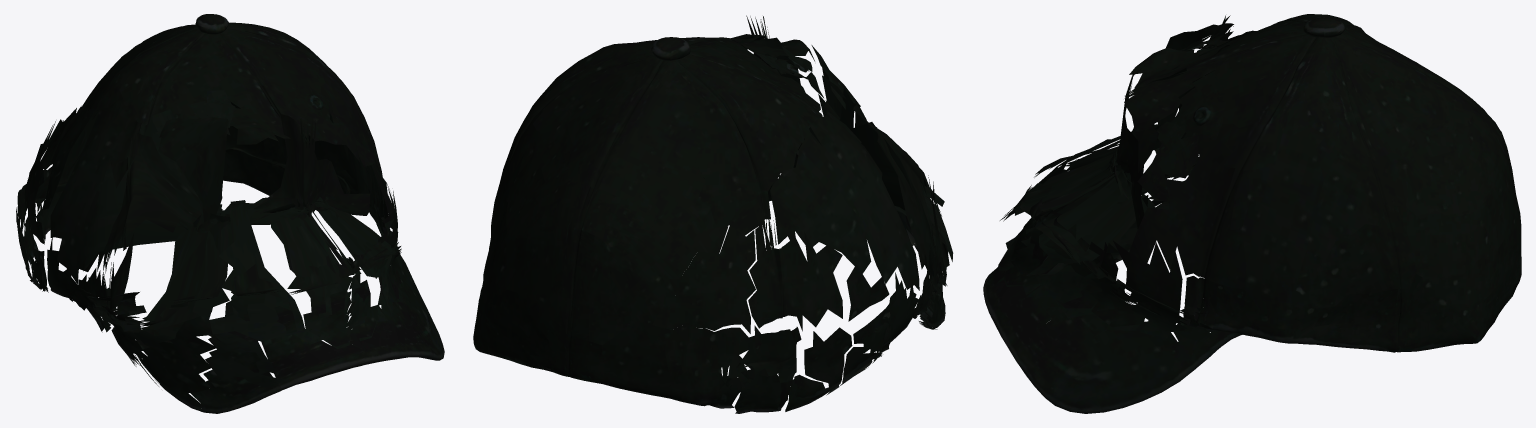
The model's file is dante.glb.
3 views of the same model, side by side, from view 1: azimuth 30°, elevation 25°; view 2: azimuth 150°, elevation 25°; view 3: azimuth 270°, elevation 25° (orthographic). The views are drawn at different scales.
Parts seen in each view (by area): view 1: geometry_0; view 2: geometry_0; view 3: geometry_0.
Boxes of the visible parts, x1,y1,x2,y2 form: geometry_0: [16, 14, 444, 413]; geometry_0: [473, 15, 953, 413]; geometry_0: [983, 14, 1521, 413].
Bounding box in the file's own units: 0.2069 × 0.1741 × 0.2618.
Materials: 1 (1 with a texture image).
